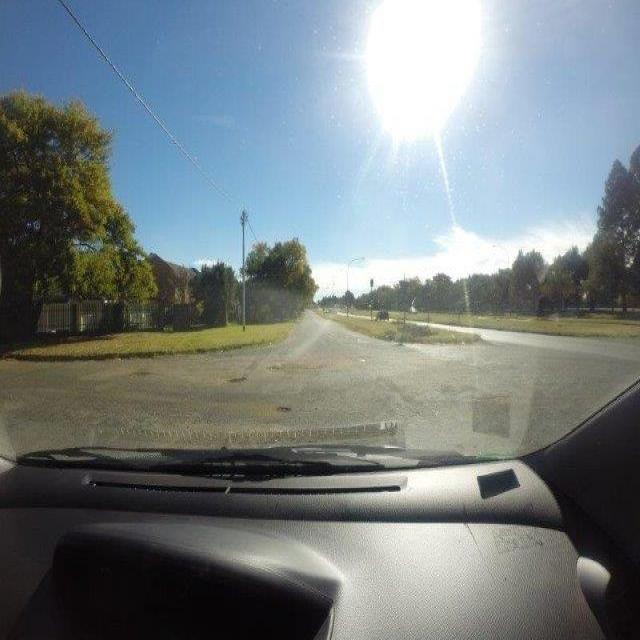jalan retak: (367, 370, 435, 421)
lubang: (440, 377, 498, 412), (264, 357, 332, 371), (224, 372, 250, 385), (272, 400, 290, 416)
